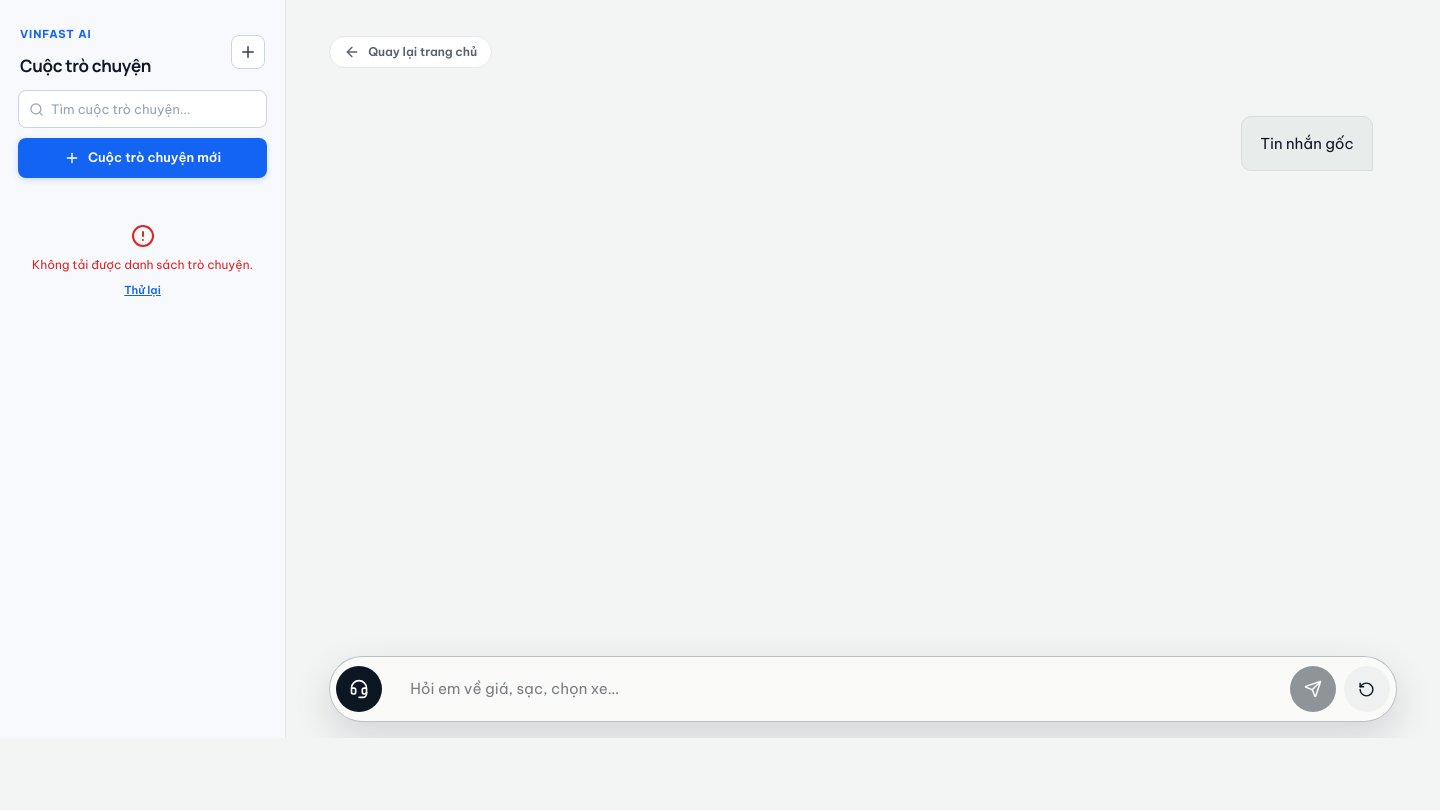
Test: ConsultationFlow retry identity › retries restored pending payload even when draft differs
Type "Nội dung đã sửa" into the field named "Tin nhắn gửi trợ lý" at x=846, y=689, box [410,663,1282,715]
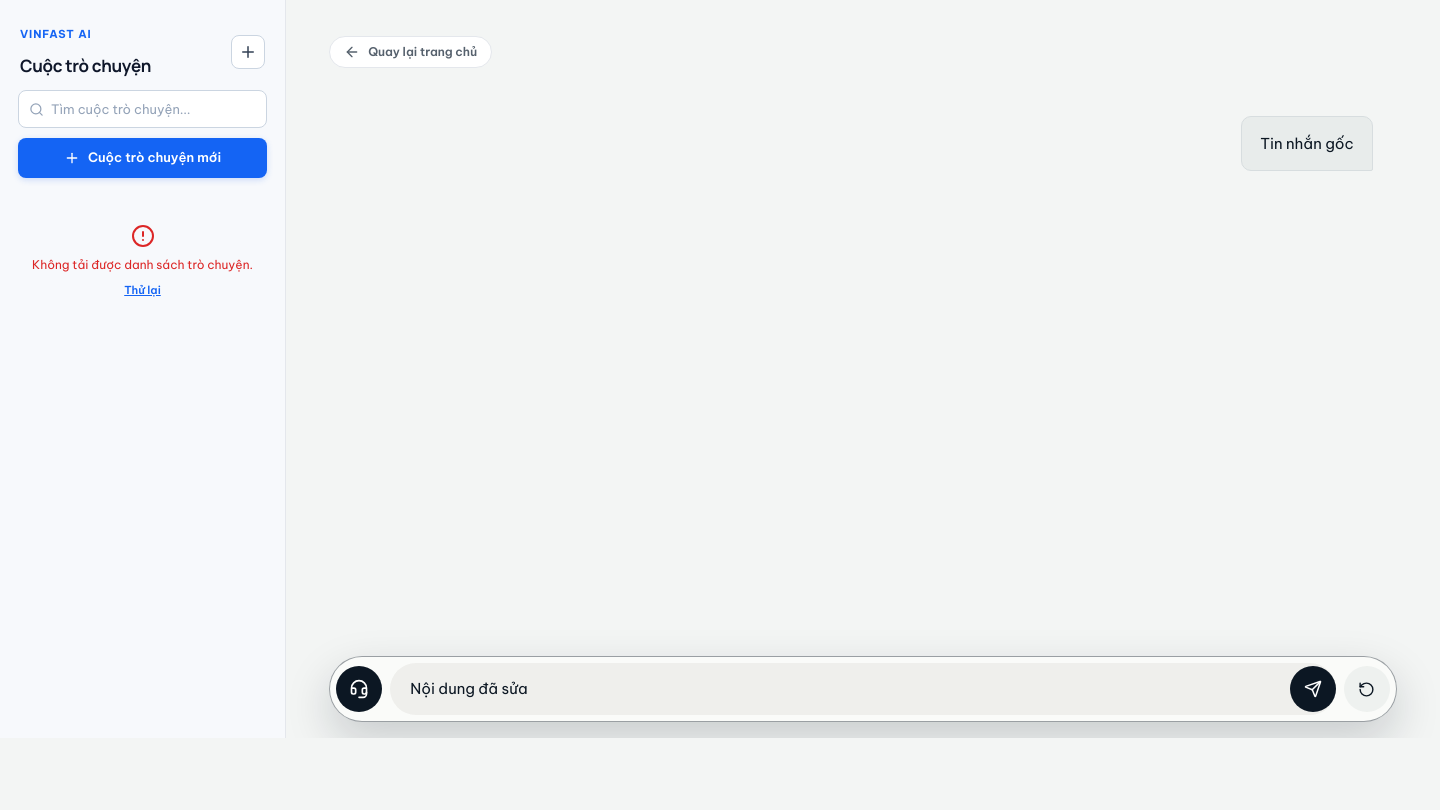
Click the button named "Gửi" at x=1313, y=689, box [1290,666,1336,712]
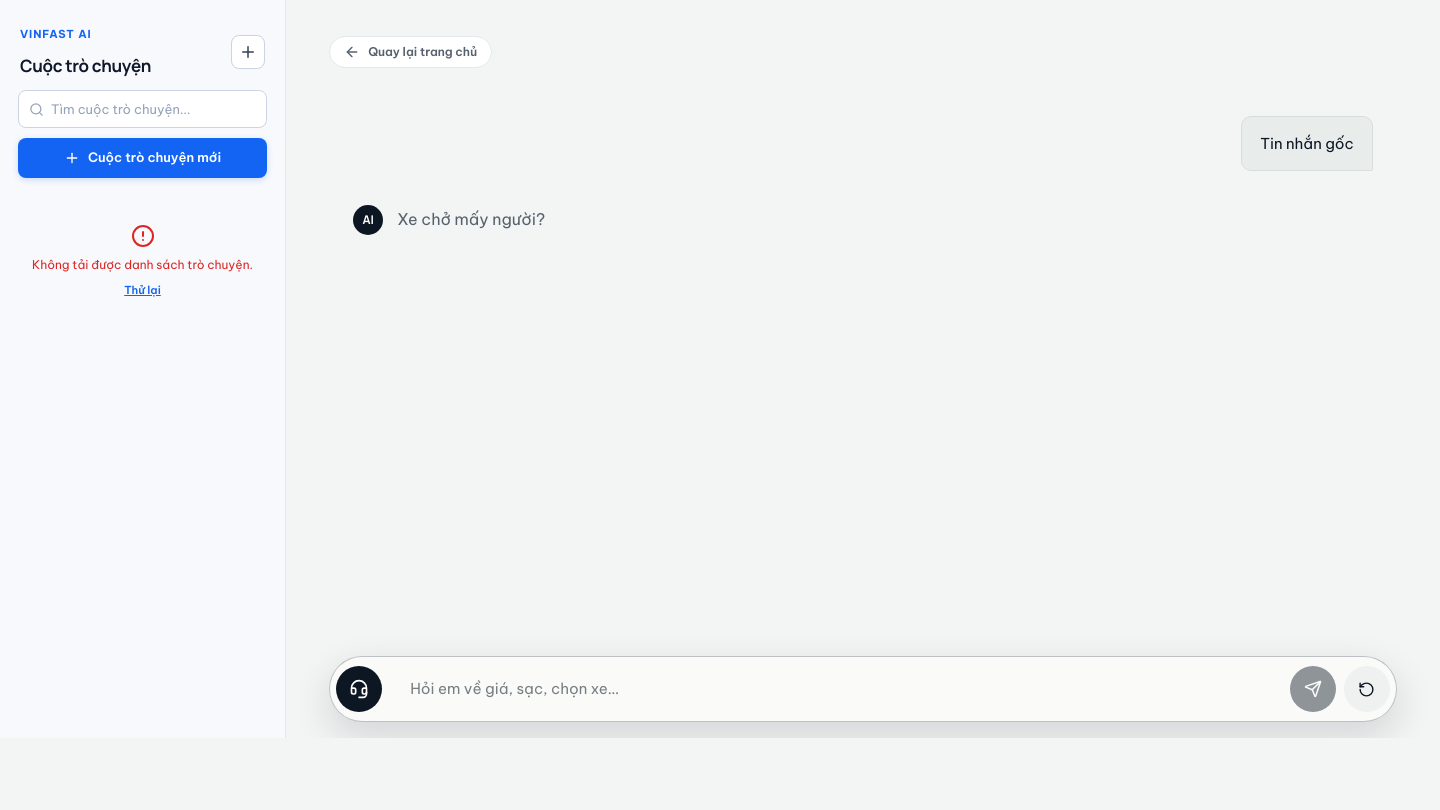
Check: the text "Nội dung đã sửa" is not shown
Check: the text "Xe chở mấy người?" is shown, box [397,209,545,229]
